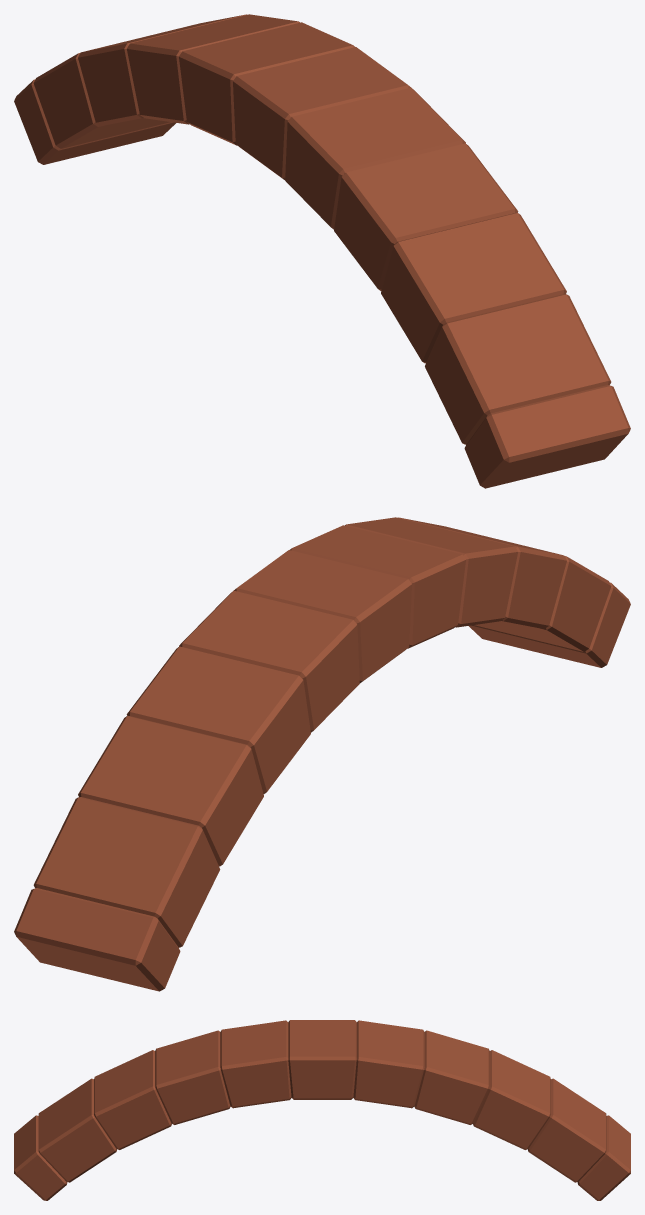
Rendered from SM_Wall_4.fbx.
3 renders of one model, top to bottom at view 1: azimuth 30°, elevation 25°; view 2: azimuth 150°, elevation 25°; view 3: azimuth 270°, elevation 25°, orthographic. The views are drawn at different scales.
Parts seen in each view (by area): view 1: SM_Wall_4_LOD0; view 2: SM_Wall_4_LOD0; view 3: SM_Wall_4_LOD0.
Boxes of the visible parts, x1,y1,x2,y2 form: SM_Wall_4_LOD0: (14,14,630,488); SM_Wall_4_LOD0: (14,517,630,991); SM_Wall_4_LOD0: (14,1020,630,1200).
Bounding box in the file's own units: 67.19 × 451 × 116.
1 material, 1 textured.
